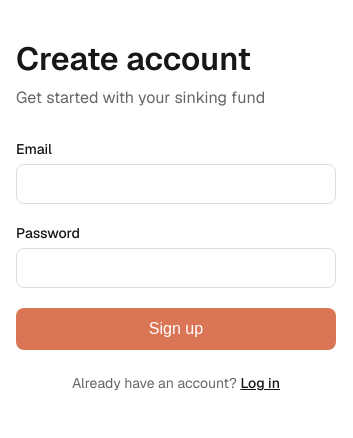
Test case: SignupPage › shows an error message on duplicate email (409)
The width and height of the screenshot is (353, 438).
Type "test@example.com" into the field labelled "Email" at (176, 184), box [16,164,336,204]
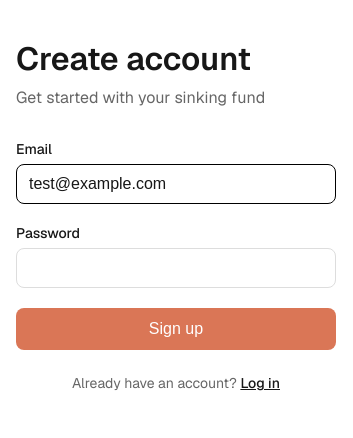
Type "securepass123" into the password field labelled "Password" at (176, 268), box [16,248,336,288]
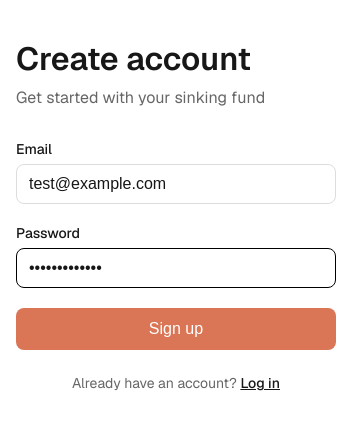
Click the button "Sign up" at (176, 329), box [16,308,336,350]
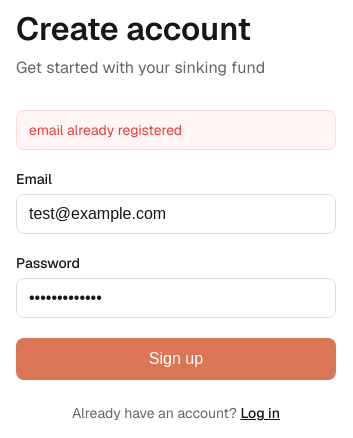
Now the message reads "email already registered", box [29,121,182,139]
